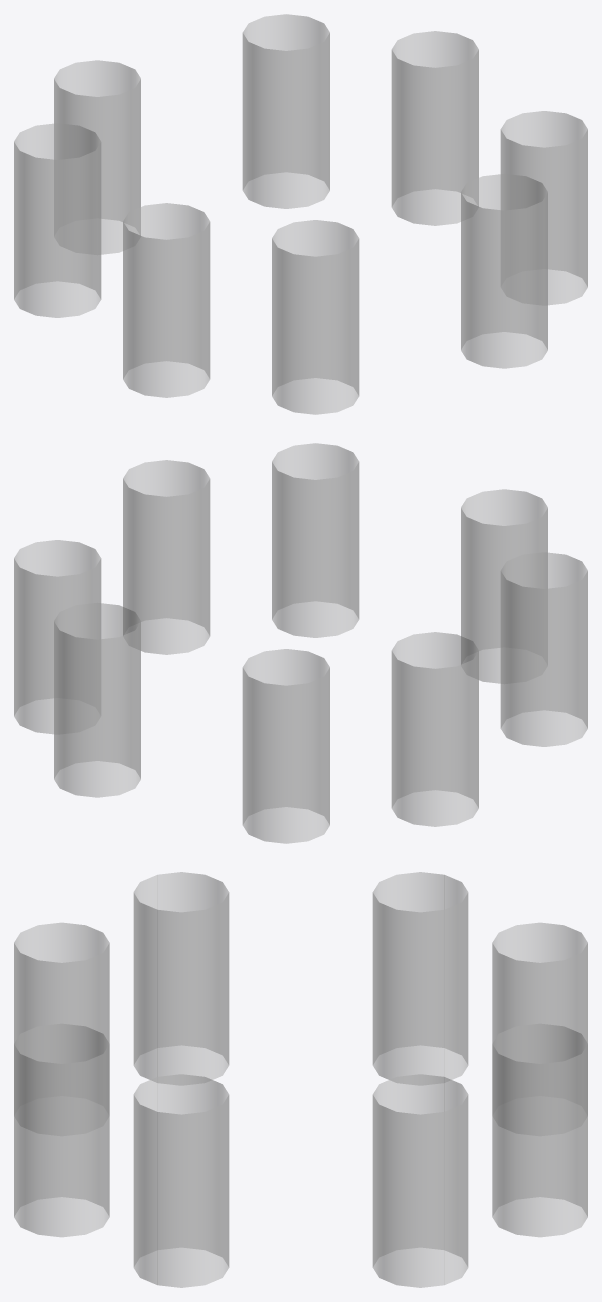
The model's file is liquefactor_glass.obj.
The picture shows the model from 3 angles, top to bottom: view 1: azimuth 30°, elevation 25°; view 2: azimuth 150°, elevation 25°; view 3: azimuth 270°, elevation 25°; orthographic projection. The views are drawn at different scales.
Visible parts, largest first — view 1: Glass; view 2: Glass; view 3: Glass.
Part boxes in pixels (box(x1,y1,x2,y2)): Glass: box(14, 14, 587, 414); Glass: box(14, 443, 587, 843); Glass: box(14, 872, 587, 1287).
Size of the model in its own units: 3 by 1 by 3.
